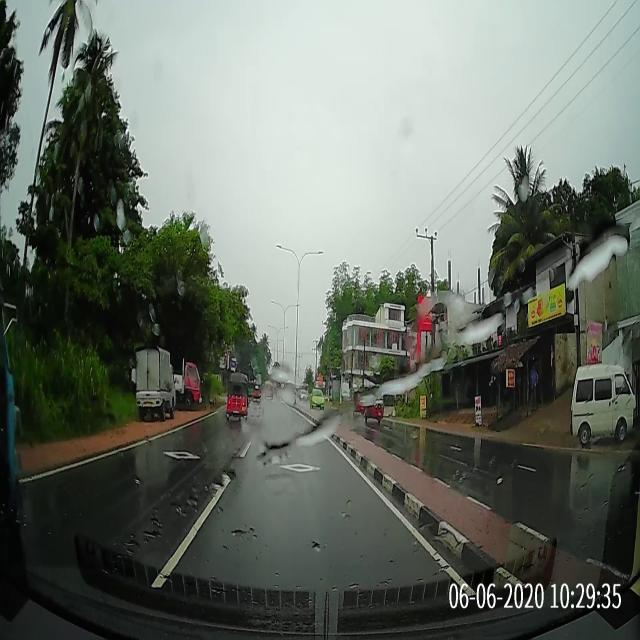diamond: (226, 448, 376, 482)
